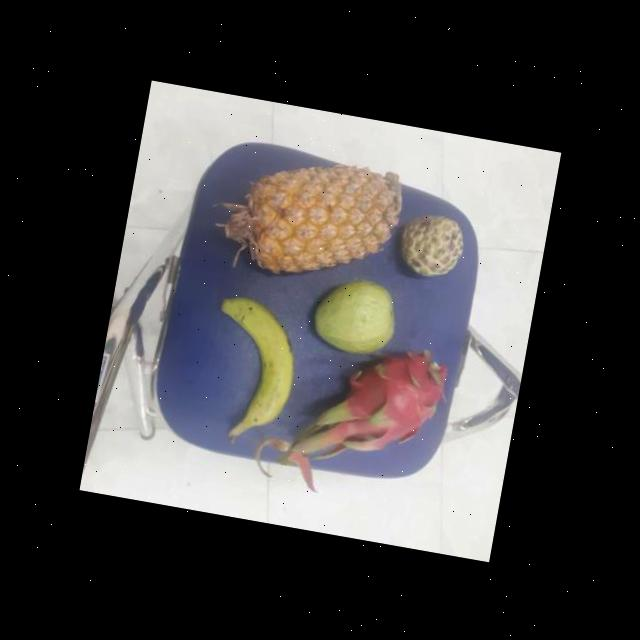Sakya fruit: (396, 208, 468, 284)
banana: (203, 292, 304, 449)
guava: (309, 271, 401, 362)
pineapple: (234, 149, 406, 292)
pitaya: (334, 339, 452, 460)
